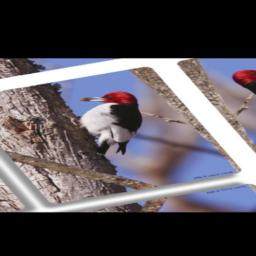Woodpecker: (50, 89, 179, 158)
